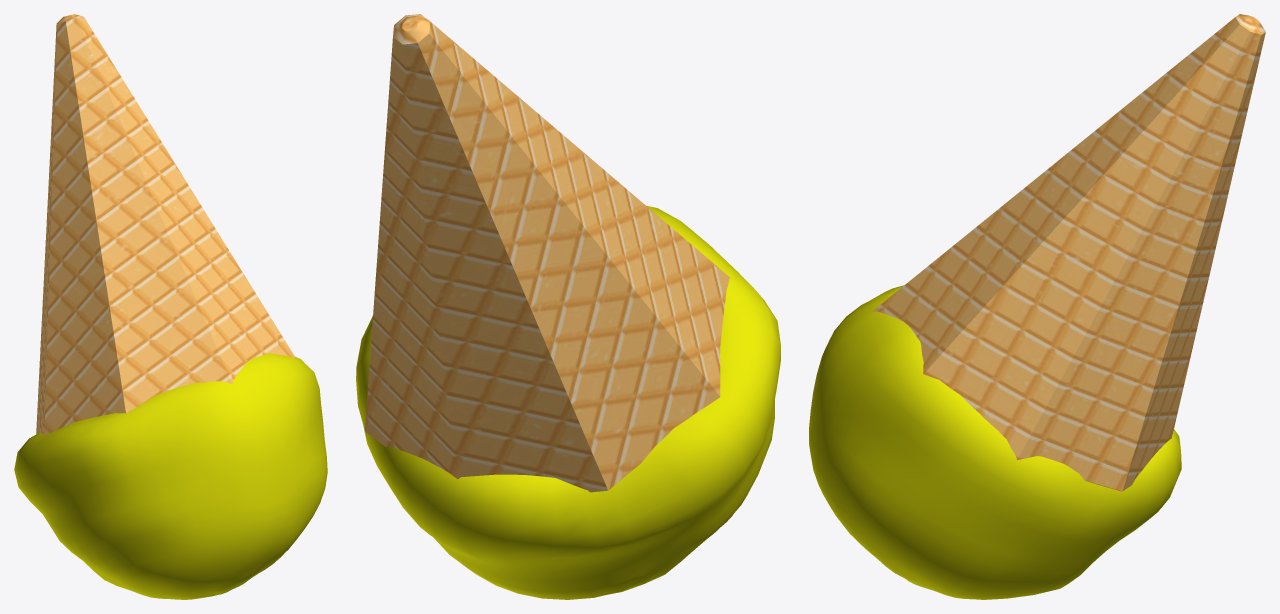
File: Helado cae solo.fbx
The picture shows the model from 3 angles, left to right: view 1: azimuth 30°, elevation 25°; view 2: azimuth 150°, elevation 25°; view 3: azimuth 270°, elevation 25°; orthographic projection. The views are drawn at different scales.
Visible parts, largest first — view 1: polySurface76; view 2: polySurface76; view 3: polySurface76.
Boxes of the visible parts, x1,y1,x2,y2 form: polySurface76: [14, 14, 327, 599]; polySurface76: [356, 14, 780, 599]; polySurface76: [809, 14, 1265, 599].
Size of the model in its own units: 30.84 by 51.19 by 37.2.
Materials: 2 (1 with a texture image).
